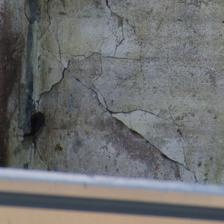Crack: (107, 111, 196, 180), (96, 94, 175, 125), (39, 53, 76, 106)
